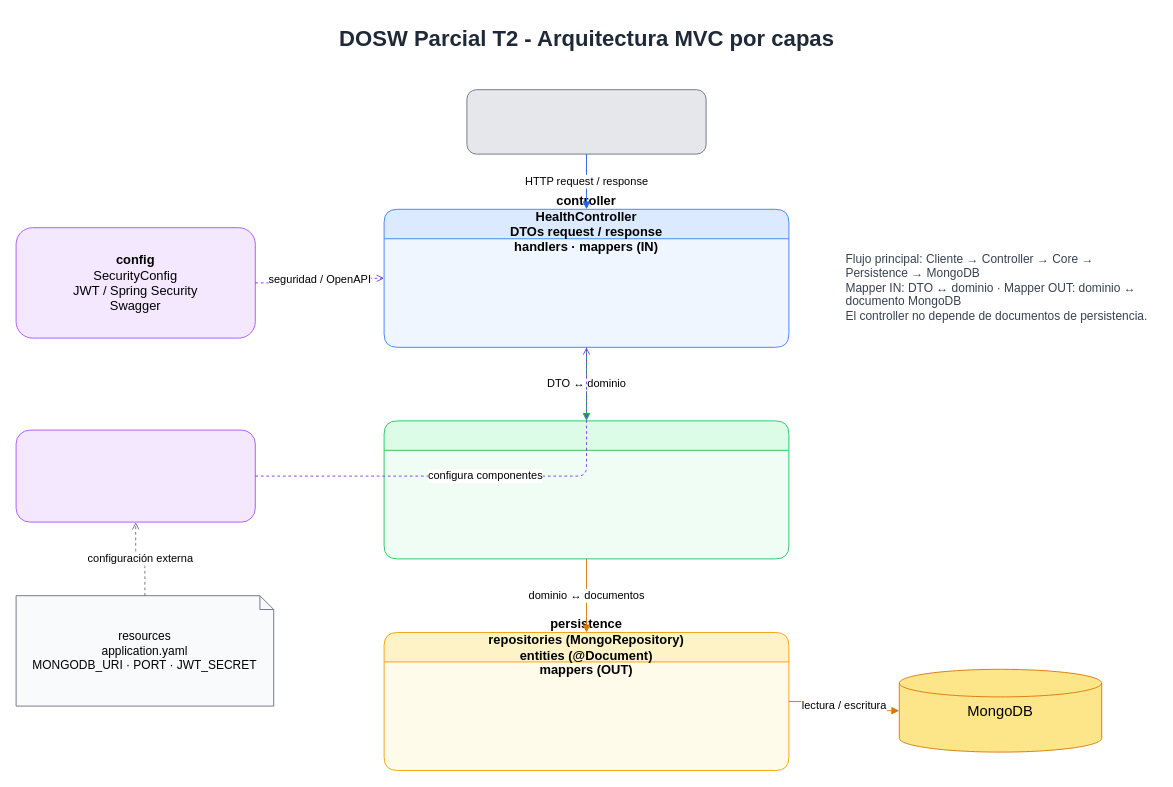
Some shapes in this 1173 by 787 pixel diagram are drawn without their labels. Here are the shapes that lost their labels. From the top down, the box of each, then its label:
(466, 89, 706, 154): Cliente HTTP Web / Swagger
(15, 429, 255, 522): main ParcialApplication Spring Boot entry point
(383, 420, 789, 559): core services models (dominio) validators · utils
